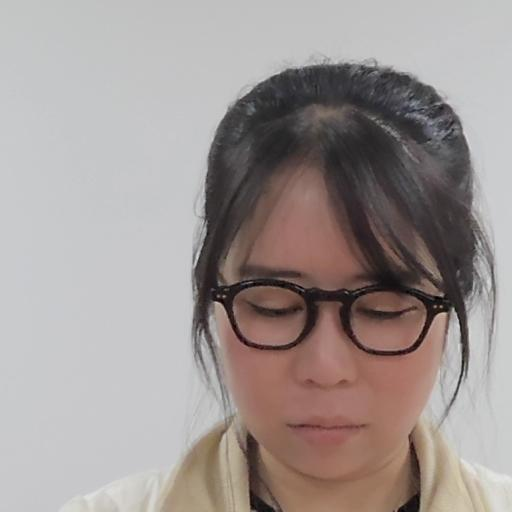no_glasses: (191, 60, 480, 475)
